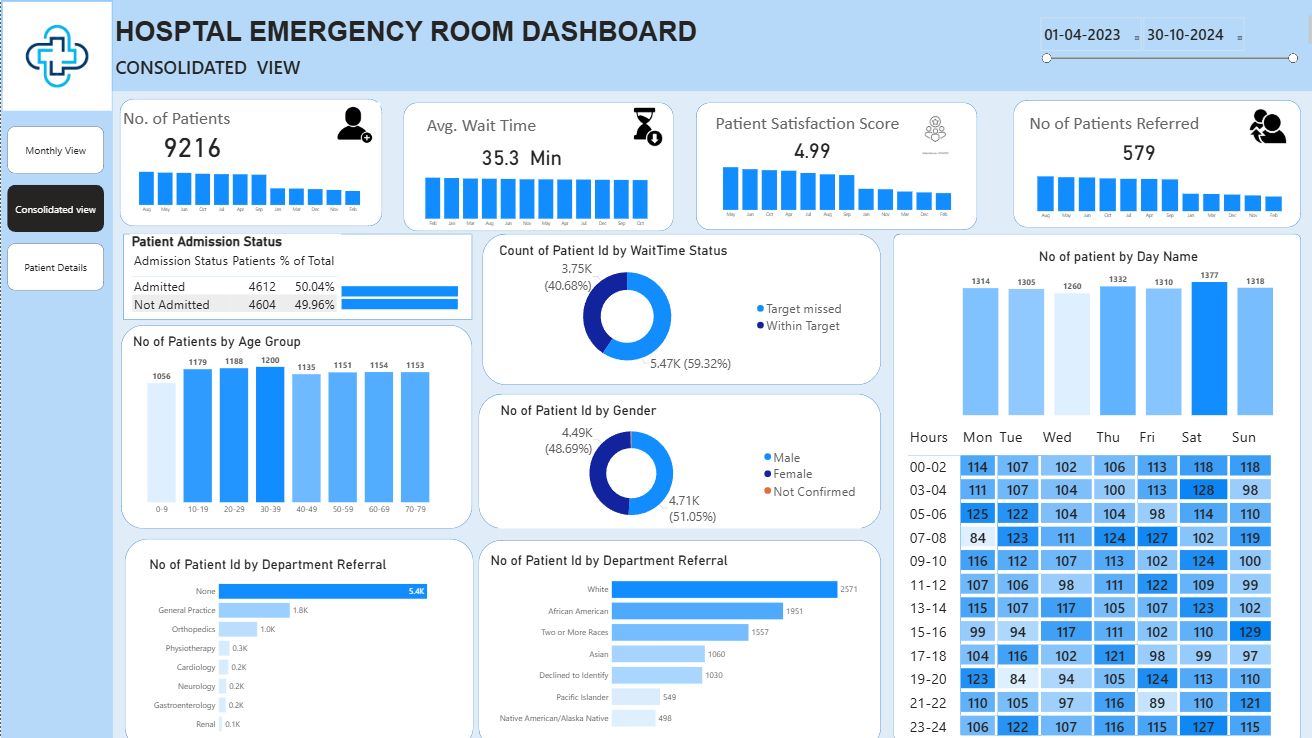

This screenshot's page, from the dashboard's own definition file:
{"tool":"powerbi","page":{"name":"Consolidated view","canvas":[3500,2000],"ordinal":1},"visuals":[{"type":"shape","box":[326.7,623.3,930,230],"z":0},{"type":"shape","box":[0,0,4000,243.3],"z":1000},{"type":"shape","box":[0,0,298.3,2000.7],"z":2000},{"type":"textbox","box":[300,36.7,3200,103.3],"z":3000},{"type":"textbox","box":[299.8,138.6,1554.4,103.3],"z":4000},{"type":"card","fields":{"Values":["Data Table.No of patient"]},"box":[354.2,333.1,185.3,157.2],"z":5000},{"type":"slicer","fields":{"Values":["Data Table.Date"]},"box":[2760,36.7,706.7,176.7],"z":6000},{"type":"shape","box":[316.7,263.3,700,340],"z":8000},{"type":"columnChart","fields":{"Category":["Data Table.Month Name"],"Y":["Data Table.No of patient"]},"box":[343.3,403.3,640,173.3],"z":9000},{"type":"card","fields":{"Values":["Data Table.No of patient"]},"box":[396.7,333.3,226.7,96.7],"z":10000},{"type":"textbox","box":[319,281.5,384.7,103.2],"z":11000},{"type":"shape","box":[2700,266.7,766.7,340],"z":12000},{"type":"shape","box":[1853.3,273.3,750,340],"z":13000},{"type":"shape","box":[1073.3,273.3,720,343.3],"z":14000},{"type":"card","fields":{"Values":["Hospital ER_Data.Avg Wait Time"]},"box":[1256.7,366.7,263.3,96.7],"z":15000},{"type":"textbox","box":[1130,300,383.3,103.3],"z":16000},{"type":"card","fields":{"Values":["Hospital ER_Data.Avg Satisfaction Score"]},"box":[2033.3,346.7,260,96.7],"z":17000},{"type":"textbox","box":[1900,293.3,640,86.7],"z":18000},{"type":"columnChart","fields":{"Category":["Data Table.Month Name"],"Y":["Avg(Hospital ER_Data.Patient Waittime)"]},"box":[1106.7,450,643.3,163.3],"z":19000},{"type":"barChart","title":"No of Patient Id by Admission Status","fields":{"Category":["Hospital ER_Data.Admission Status"],"Y":["CountNonNull(Hospital ER_Data.Patient Id)"]},"box":[903.3,733.3,346.7,110],"z":20000},{"type":"columnChart","fields":{"Y":["Sum(Hospital ER_Data.Patient Satisfaction Score)"],"Category":["Data Table.Month Name"]},"box":[1900,430,660,160],"z":21000},{"type":"textbox","box":[2736.7,293.3,663.3,103.3],"z":22000},{"type":"columnChart","fields":{"Y":["CountNonNull(Hospital ER_Data.Department Referral)"],"Category":["Data Table.Month Name"]},"box":[2736.7,413.3,706.7,180],"z":23000},{"type":"card","fields":{"Values":["Hospital ER_Data.No of patient referred"]},"box":[2903.3,353.3,260,96.7],"z":24000},{"type":"shape","box":[320,866.7,936.7,543.3],"z":25000},{"type":"columnChart","fields":{"Category":["Hospital ER_Data.Age Group"],"Y":["CountNonNull(Hospital ER_Data.Patient Id)"]},"box":[345.2,891.4,841.2,492.6],"z":26000},{"type":"tableEx","title":"Patient Admission Status","fields":{"Values":["Hospital ER_Data.Admission Status","Hospital ER_Data.Patient Id1","Hospital ER_Data.Patient Id"]},"box":[343.3,623.3,563.3,220],"z":27000},{"type":"shape","box":[1273.3,1440,1073.3,560],"z":28000},{"type":"clusteredBarChart","title":"No of Patient Id by Department Referral","fields":{"Y":["CountNonNull(Hospital ER_Data.Patient Id)"],"Category":["Hospital ER_Data.Patient Race"]},"box":[1300,1473.3,993.3,493.3],"z":29000},{"type":"shape","box":[1283.3,623.3,1063.3,403.3],"z":30000},{"type":"donutChart","fields":{"Y":["CountNonNull(Hospital ER_Data.Patient Id)"],"Category":["Hospital ER_Data.WaitTime Status"]},"box":[1323.3,646.7,933.3,353.3],"z":31000},{"type":"shape","box":[1273.3,1050,1073.3,360],"z":32000},{"type":"shape","box":[330,1436.7,930,563.3],"z":33000},{"type":"donutChart","title":"No of Patient Id by  Gender","fields":{"Y":["CountNonNull(Hospital ER_Data.Patient Id)"],"Category":["Hospital ER_Data.Patient Gender"]},"box":[1326.7,1073.3,966.7,336.7],"z":34000},{"type":"shape","box":[2380,623.3,1086.7,1353.3],"z":35000},{"type":"clusteredBarChart","title":"No of Patient Id by Department Referral","fields":{"Category":["Hospital ER_Data.Department Referral"],"Y":["CountNonNull(Hospital ER_Data.Patient Id)"]},"box":[390,1483.3,796.7,493.3],"z":36000},{"type":"pivotTable","fields":{"Rows":["Hospital ER_Data.Waittime Interval"],"Columns":["Data Table.Day Name"],"Values":["Data Table.No of patient"]},"box":[2413.3,1130,1016.7,836.7],"z":37000},{"type":"columnChart","fields":{"Category":["Data Table.Day Name"],"Y":["Data Table.No of patient"]},"box":[2560,663.3,840,450],"z":38000},{"type":"image","box":[870,266.7,146.7,143.3],"z":39000},{"type":"image","box":[1660,280,130,116.7],"z":40000},{"type":"image","box":[2380,280,223.3,136.7],"z":41000},{"type":"image","box":[3313.3,286.7,130,100],"z":42000},{"type":"image","box":[0,0,300,300],"z":42001},{"type":"pageNavigator","box":[18,338,258,438],"z":42002}]}

Visuals, with their boxes on the page's 3500x2000 design canvas (x1, y1, x2, y2). These are canvas units, not pixel positions in the 1312x738 screenshot, which may show the page scaled, cropped or inside an application window:
shape: box(327, 623, 1257, 853)
shape: box(0, 0, 4000, 243)
shape: box(0, 0, 298, 2001)
textbox: box(300, 37, 3500, 140)
textbox: box(300, 139, 1854, 242)
card - Data Table.No of patient: box(354, 333, 540, 490)
slicer - Data Table.Date: box(2760, 37, 3467, 213)
shape: box(317, 263, 1017, 603)
columnChart - Data Table.Month Name x Data Table.No of patient: box(343, 403, 983, 577)
card - Data Table.No of patient: box(397, 333, 623, 430)
textbox: box(319, 282, 704, 385)
shape: box(2700, 267, 3467, 607)
shape: box(1853, 273, 2603, 613)
shape: box(1073, 273, 1793, 617)
card - Hospital ER_Data.Avg Wait Time: box(1257, 367, 1520, 463)
textbox: box(1130, 300, 1513, 403)
card - Hospital ER_Data.Avg Satisfaction Score: box(2033, 347, 2293, 443)
textbox: box(1900, 293, 2540, 380)
columnChart - Data Table.Month Name x Avg(Hospital ER_Data.Patient Waittime): box(1107, 450, 1750, 613)
"No of Patient Id by Admission Status" barChart: box(903, 733, 1250, 843)
columnChart - Sum(Hospital ER_Data.Patient Satisfaction Score) x Data Table.Month Name: box(1900, 430, 2560, 590)
textbox: box(2737, 293, 3400, 397)
columnChart - CountNonNull(Hospital ER_Data.Department Referral) x Data Table.Month Name: box(2737, 413, 3443, 593)
card - Hospital ER_Data.No of patient referred: box(2903, 353, 3163, 450)
shape: box(320, 867, 1257, 1410)
columnChart - Hospital ER_Data.Age Group x CountNonNull(Hospital ER_Data.Patient Id): box(345, 891, 1186, 1384)
"Patient Admission Status" tableEx: box(343, 623, 907, 843)
shape: box(1273, 1440, 2347, 2000)
"No of Patient Id by Department Referral" clusteredBarChart: box(1300, 1473, 2293, 1967)
shape: box(1283, 623, 2347, 1027)
donutChart - CountNonNull(Hospital ER_Data.Patient Id) x Hospital ER_Data.WaitTime Status: box(1323, 647, 2257, 1000)
shape: box(1273, 1050, 2347, 1410)
shape: box(330, 1437, 1260, 2000)
"No of Patient Id by  Gender" donutChart: box(1327, 1073, 2293, 1410)
shape: box(2380, 623, 3467, 1977)
"No of Patient Id by Department Referral" clusteredBarChart: box(390, 1483, 1187, 1977)
pivotTable - Hospital ER_Data.Waittime Interval x Data Table.Day Name: box(2413, 1130, 3430, 1967)
columnChart - Data Table.Day Name x Data Table.No of patient: box(2560, 663, 3400, 1113)
image: box(870, 267, 1017, 410)
image: box(1660, 280, 1790, 397)
image: box(2380, 280, 2603, 417)
image: box(3313, 287, 3443, 387)
image: box(0, 0, 300, 300)
pageNavigator: box(18, 338, 276, 776)
